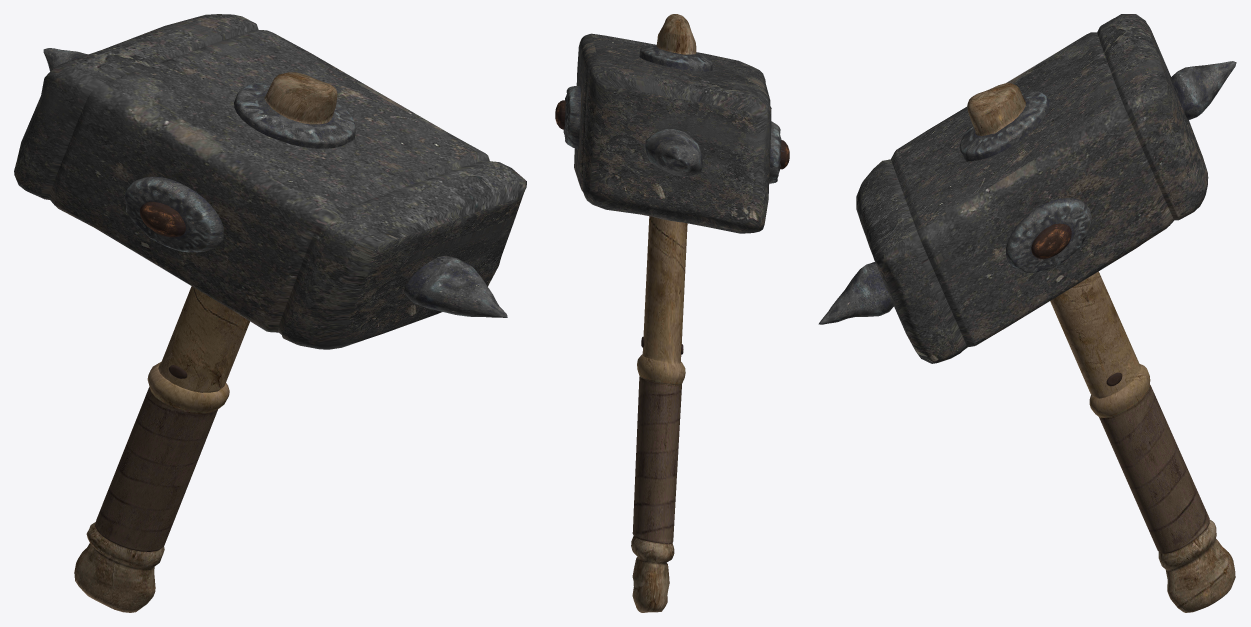
File: Weapon5.fbx
3 renders of one model, left to right at view 1: azimuth 30°, elevation 25°; view 2: azimuth 150°, elevation 25°; view 3: azimuth 270°, elevation 25°, orthographic. The views are drawn at different scales.
Parts seen in each view (by area): view 1: RunicStoneHammer_Ultra; view 2: RunicStoneHammer_Ultra; view 3: RunicStoneHammer_Ultra.
Part boxes in pixels (x1,y1,x2,y2): RunicStoneHammer_Ultra: [14, 14, 526, 612]; RunicStoneHammer_Ultra: [555, 14, 789, 612]; RunicStoneHammer_Ultra: [818, 14, 1236, 612].
Bounding box in the file's own units: 153 × 243 × 165.
